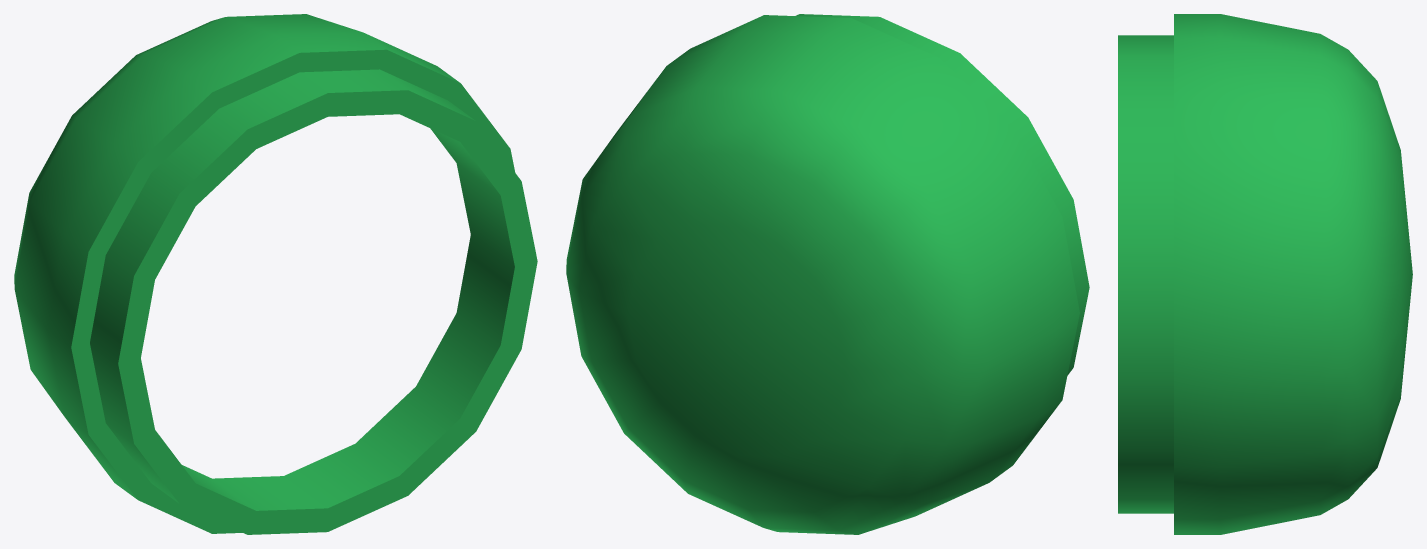
File: gachapon_bottom.gltf
3 renders of one model, left to right at view 1: azimuth 30°, elevation 25°; view 2: azimuth 150°, elevation 25°; view 3: azimuth 270°, elevation 25°, orthographic.
Parts seen in each view (by area): view 1: gachapon_bottom; view 2: gachapon_bottom; view 3: gachapon_bottom.
Part boxes in pixels (x1,y1,x2,y2): gachapon_bottom: (14,14,537,534); gachapon_bottom: (566,14,1089,534); gachapon_bottom: (1118,14,1412,534).
Bounding box in the file's own units: 20 × 20 × 11.31.
